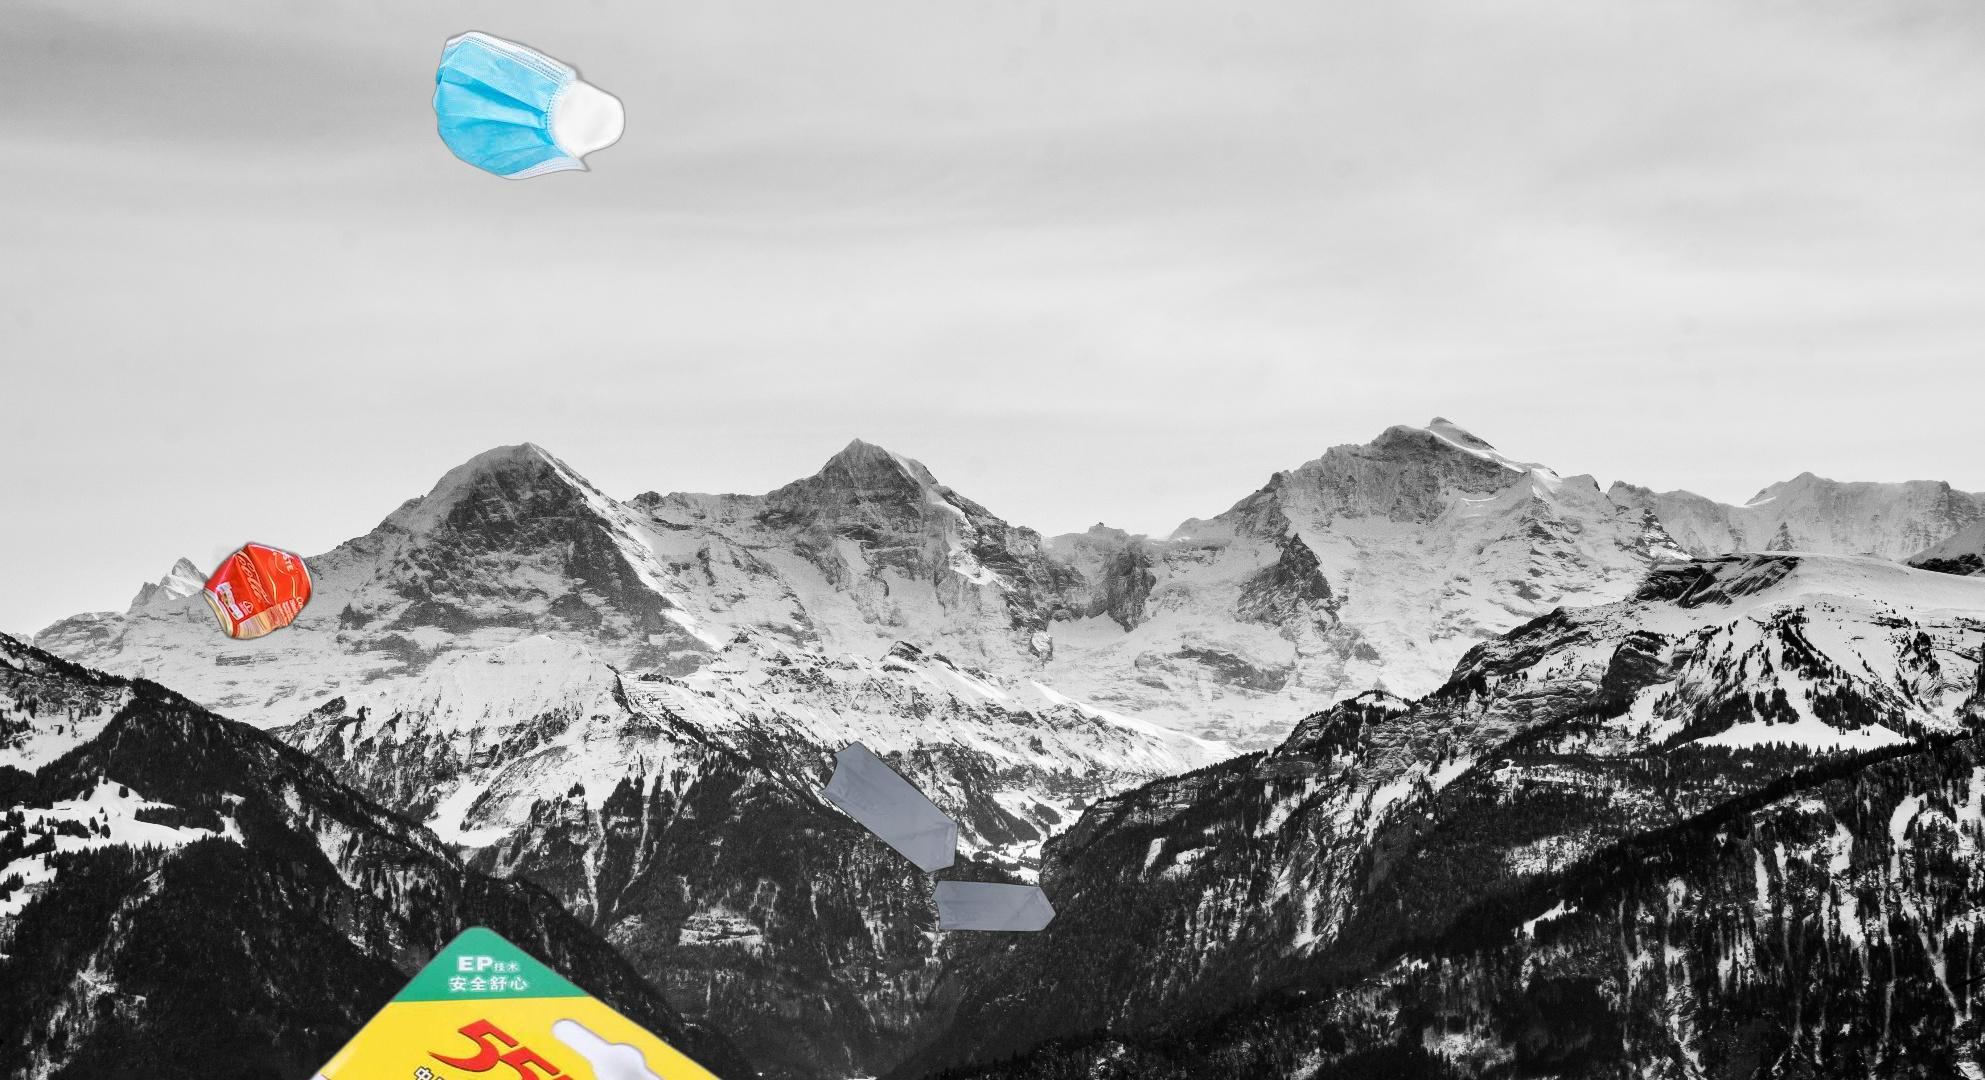battery: (94, 919, 836, 1080)
metal-cans: (170, 536, 318, 1064)
plastic-bag: (816, 738, 1060, 934)
trash: (429, 28, 628, 184)
